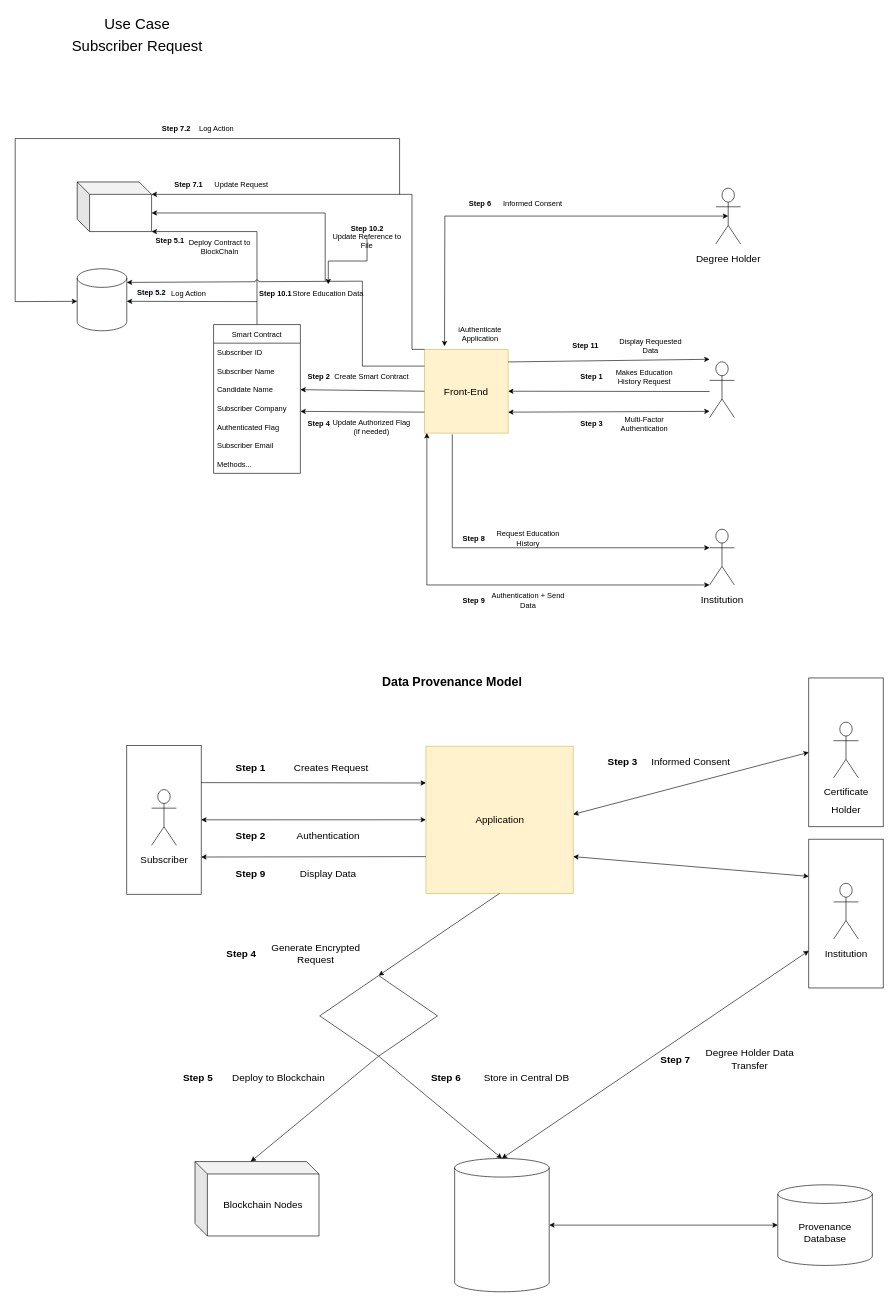
Some shapes in this 894 by 1303 pixel diagram are drawn without their labels. The shapes that lost their labels are listed below. From the top down, each one's centre as x and y in pixels, then its label:
At pixel 114 206: "Blockchain".
At pixel 102 299: "Database".
At pixel 721 389: "Verifier".
At pixel 378 1015: "Digitally Signed Request".
At pixel 501 1225: "Relational Database".
